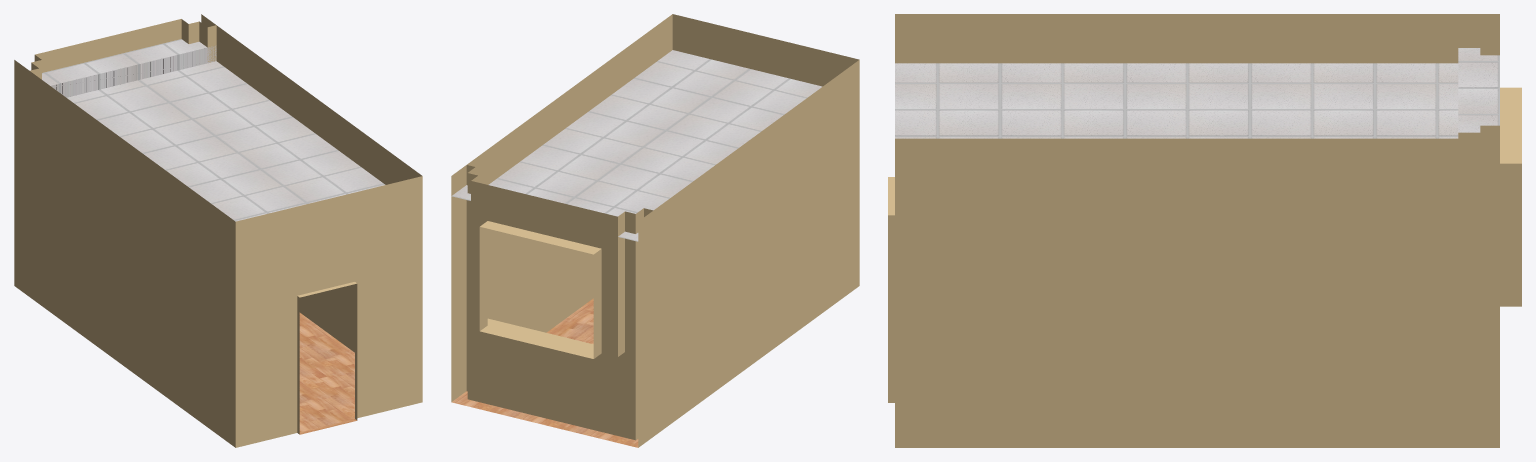
The model's file is room1.glb.
3 renders of one model, left to right at view 1: azimuth 30°, elevation 25°; view 2: azimuth 150°, elevation 25°; view 3: azimuth 270°, elevation 25°, orthographic. The views are drawn at different scales.
Visible parts, largest first — view 1: 4et.003; view 2: 4et.003; view 3: 4et.003.
Part boxes in pixels (x1,y1,x2,y2): 4et.003: (14, 14, 422, 447); 4et.003: (451, 14, 859, 447); 4et.003: (888, 14, 1521, 447).
Size of the model in its own units: 2.85 by 3.3 by 6.13.
3 materials, 2 textured.
